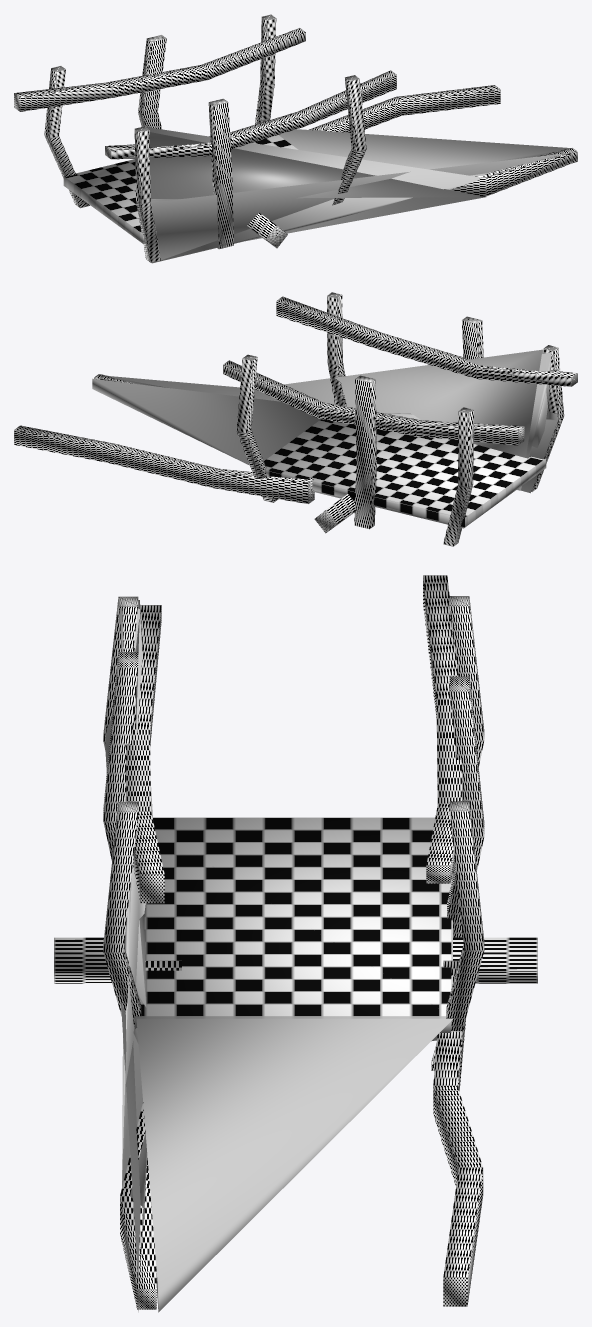
The picture shows the model from 3 angles, top to bottom: view 1: azimuth 30°, elevation 25°; view 2: azimuth 150°, elevation 25°; view 3: azimuth 270°, elevation 25°; orthographic projection. The views are drawn at different scales.
Visible parts, largest first — view 1: box03, cylinder07; view 2: box03, cylinder07; view 3: box03, cylinder07.
Part boxes in pixels (box(x1,y1,x2,y2)): box03: box(14, 14, 577, 262); cylinder07: box(143, 127, 577, 263); box03: box(14, 292, 577, 546); cylinder07: box(92, 349, 557, 528); box03: box(54, 575, 537, 1309); cylinder07: box(105, 600, 452, 1312).
Bounding box in the file's own units: 3.83 × 1.65 × 1.19.
2 materials, 1 textured.
